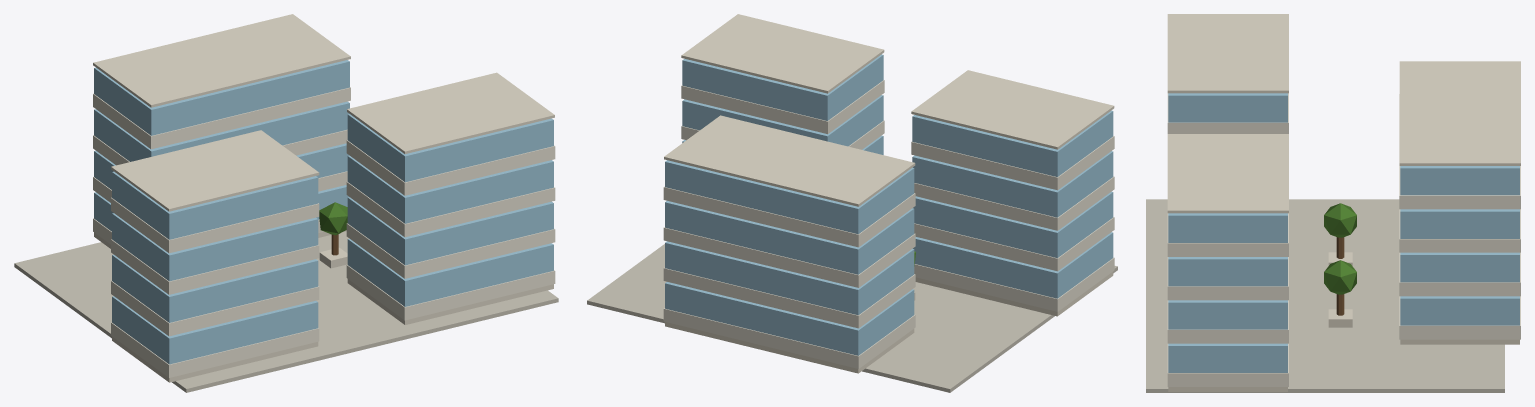
The model's file is building.office-campus.glb.
3 renders of one model, left to right at view 1: azimuth 30°, elevation 25°; view 2: azimuth 150°, elevation 25°; view 3: azimuth 270°, elevation 25°, orthographic. The views are drawn at different scales.
Visible parts, largest first — view 1: building.office-campus; view 2: building.office-campus; view 3: building.office-campus.
Boxes of the visible parts, x1,y1,x2,y2 form: building.office-campus: (14,14,558,392); building.office-campus: (587,14,1117,392); building.office-campus: (1146,14,1520,392).
Size of the model in its own units: 31.12 by 13.7 by 25.06.
